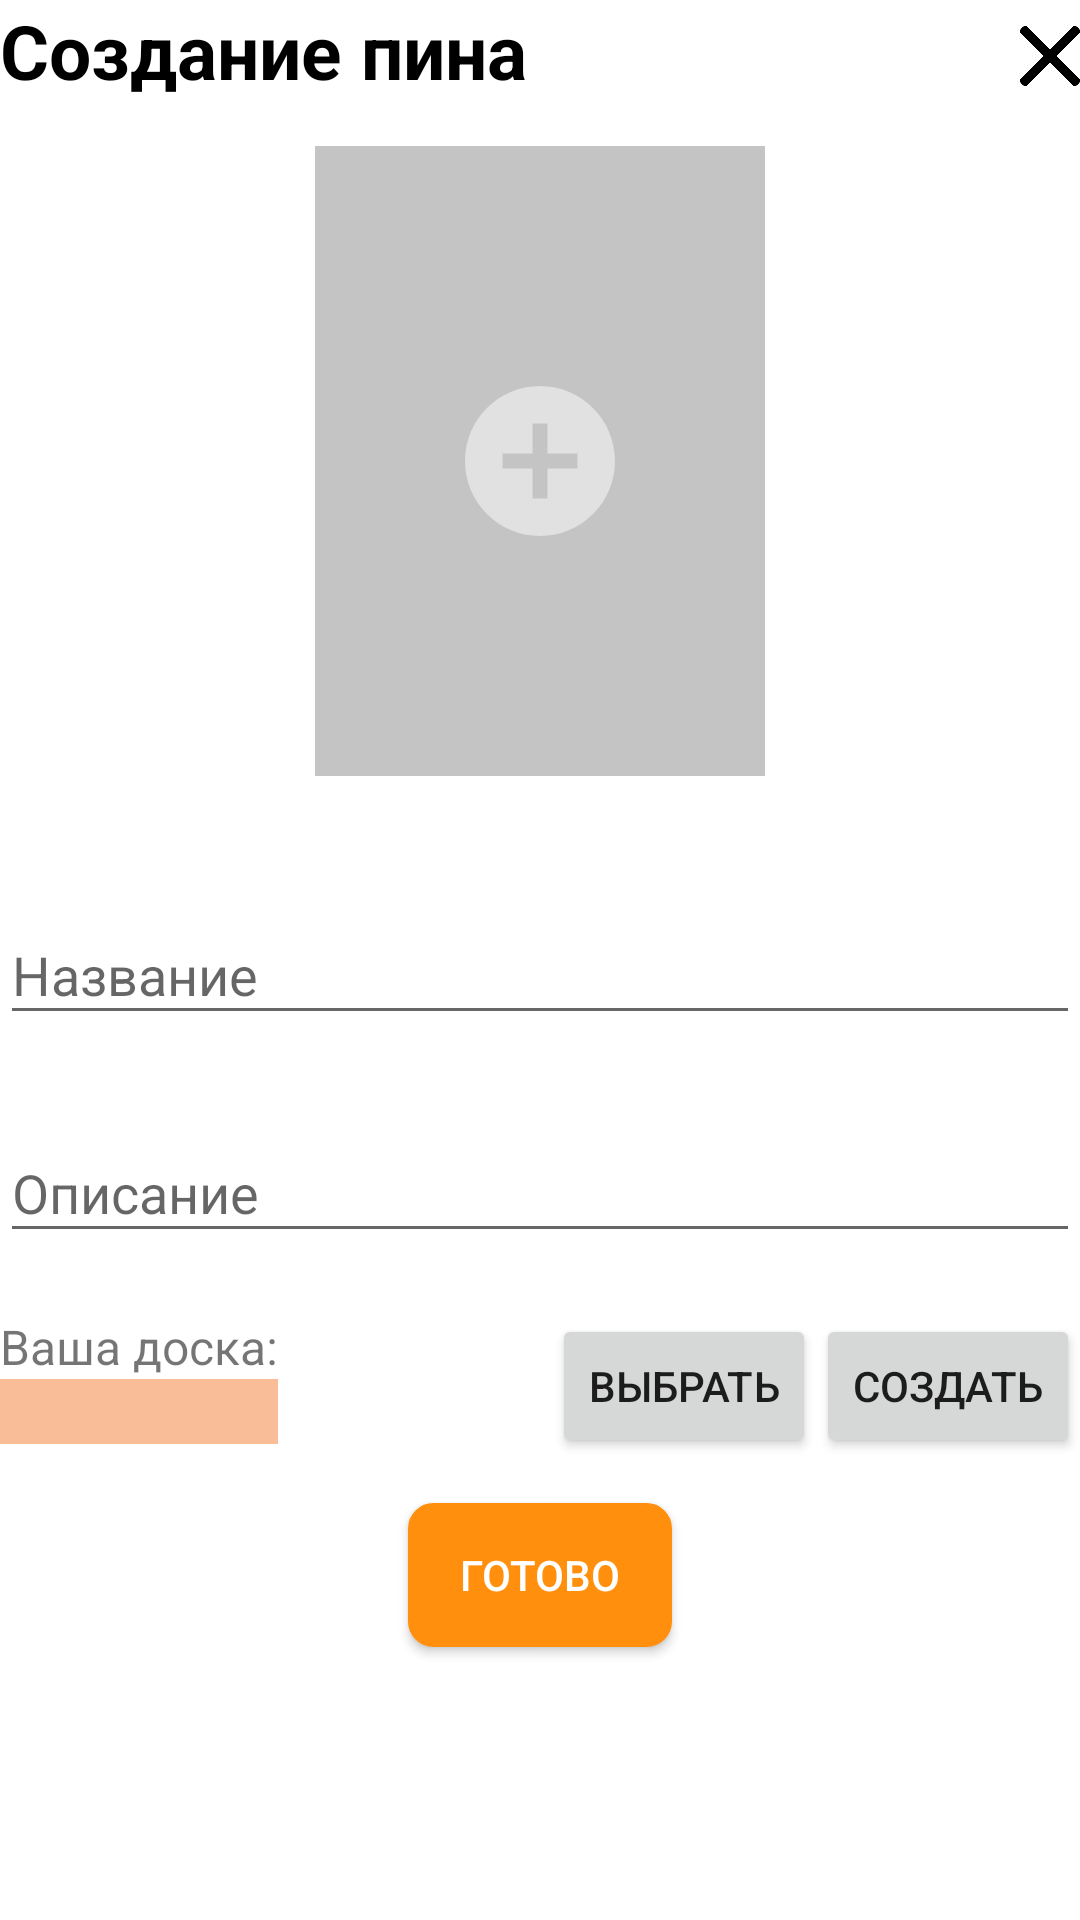

Icons on this 1080×1920 Android screen, each with the point to tap as point (x, y):
close: point (1050, 56)
